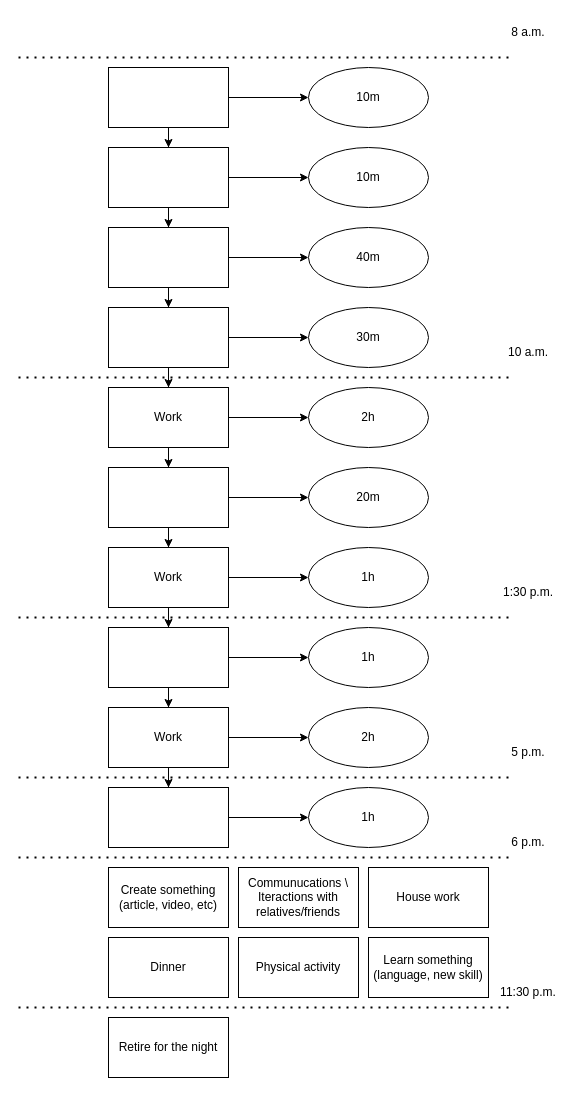
The diagram is 575 pixels wide and 1095 high, and some of its shapes have lost their labels. The box of each missing label's shape, as (x1, y1, x2, y2) in pixels:
Breakfast: (108, 226, 228, 288)
Create something (article, youtube video, etc): (108, 786, 228, 848)
Lunch: (108, 626, 228, 688)
Meditaion: (108, 466, 228, 528)
Morning work-out: (108, 146, 228, 208)
Reading fundamentals (book): (108, 306, 228, 368)
Wake up at 8: (108, 66, 228, 128)
